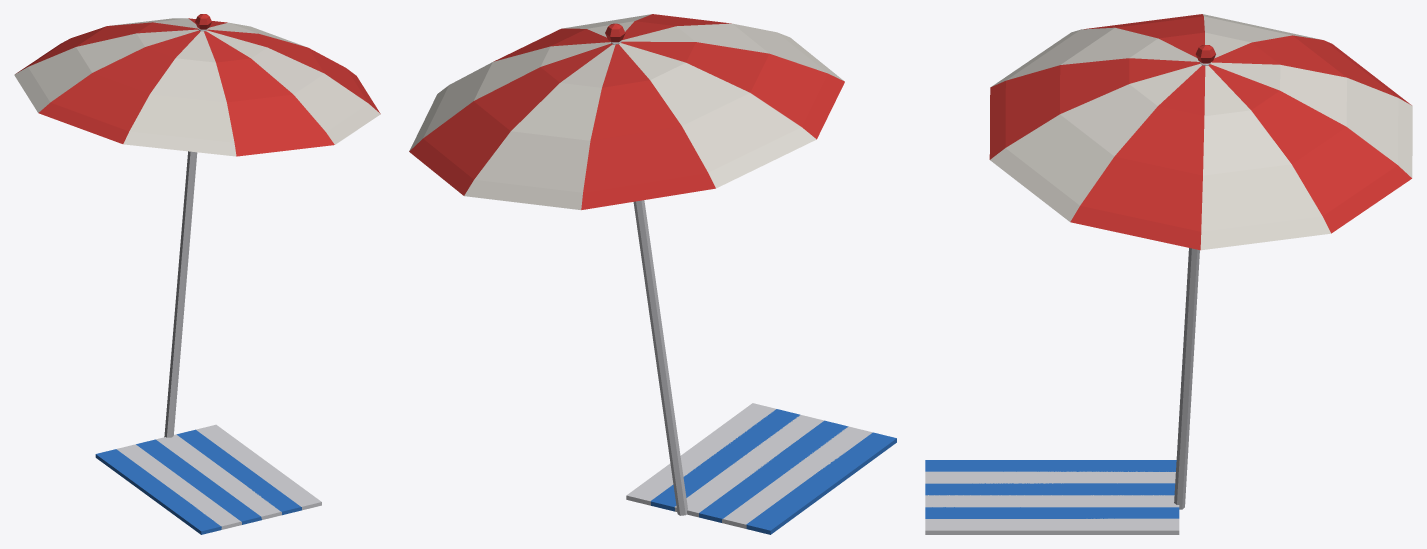
File: Prop_BeachUmbrella.fbx
3 views of the same model, side by side, from view 1: azimuth 30°, elevation 25°; view 2: azimuth 150°, elevation 25°; view 3: azimuth 270°, elevation 25° (orthographic). The views are drawn at different scales.
Visible parts, largest first — view 1: Body; view 2: Body; view 3: Body.
Boxes of the visible parts, x1,y1,x2,y2 form: Body: (14, 14, 380, 534); Body: (409, 14, 896, 534); Body: (925, 14, 1412, 534).
Bounding box in the file's own units: 5.56 × 6.8 × 6.14.
